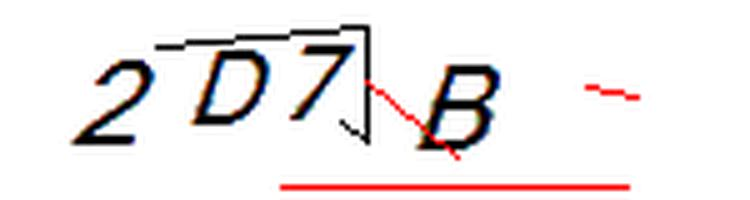2: (64, 53, 159, 155)
7: (283, 39, 358, 126)
B: (411, 60, 508, 159)
D: (184, 42, 273, 133)
